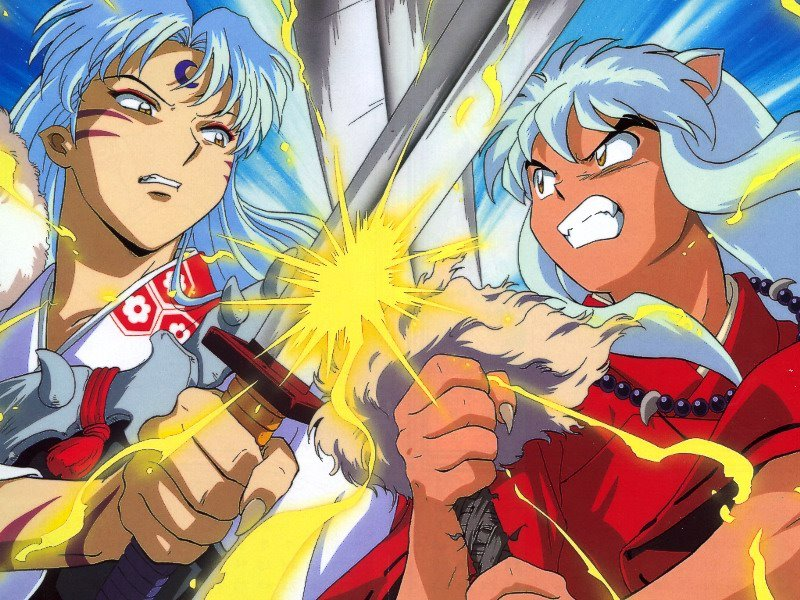sesshomaru: (13, 1, 307, 340)
